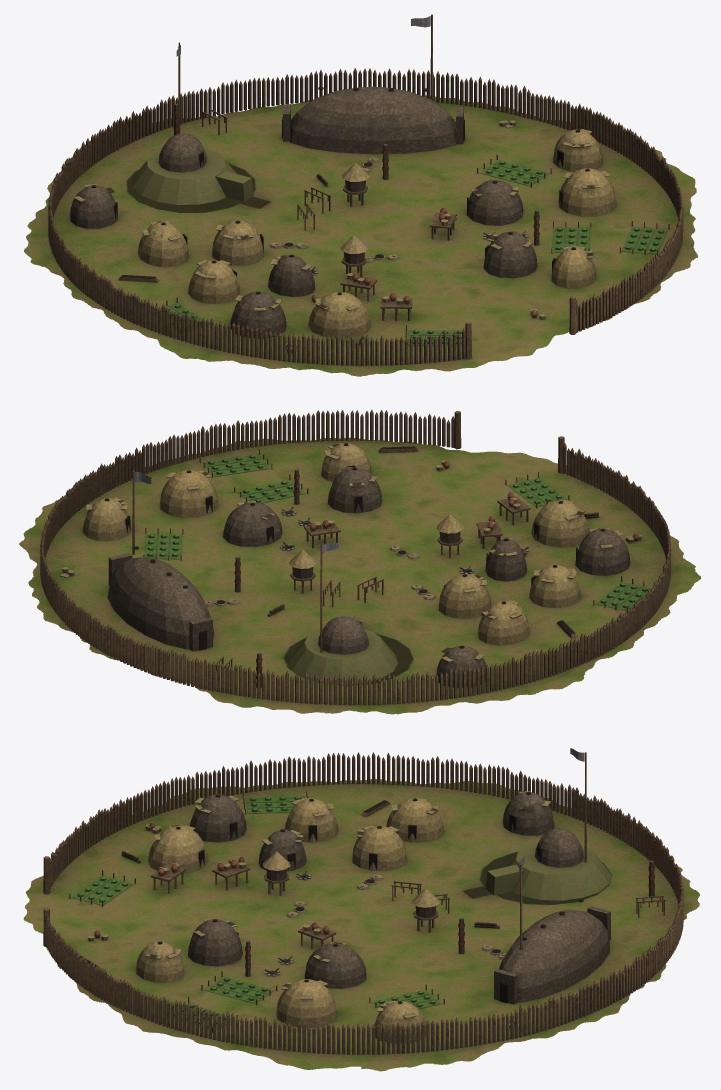
The model's file is stone-town-medium-a-americas.glb.
3 views of the same model, one above another, from view 1: azimuth 30°, elevation 25°; view 2: azimuth 150°, elevation 25°; view 3: azimuth 270°, elevation 25° (orthographic). The views are drawn at different scales.
Visible parts, largest first — view 1: LOD0; view 2: LOD0; view 3: LOD0.
Boxes of the visible parts, x1,y1,x2,y2 form: LOD0: [24, 14, 697, 376]; LOD0: [19, 409, 700, 714]; LOD0: [23, 748, 699, 1071].
Size of what is drawn, in the model's own units: 5.94 by 1.23 by 5.84.
3 materials, 3 textured.
